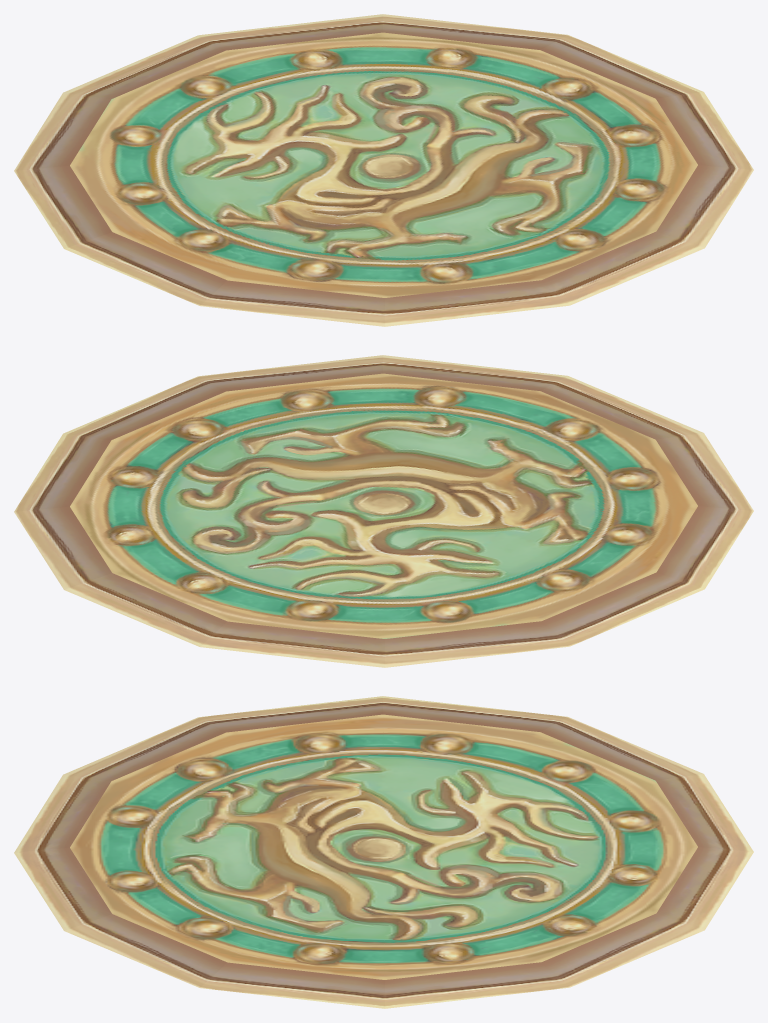
Rendered from W3_HD_GongHuiBoss_dimian_07_02_D.FBX.
3 renders of one model, top to bottom at view 1: azimuth 30°, elevation 25°; view 2: azimuth 150°, elevation 25°; view 3: azimuth 270°, elevation 25°, orthographic.
Parts seen in each view (by area): view 1: W3_HD_GongHuiBoss_dimian_07_02_D; view 2: W3_HD_GongHuiBoss_dimian_07_02_D; view 3: W3_HD_GongHuiBoss_dimian_07_02_D.
Part boxes in pixels (box(x1,y1,x2,y2)): W3_HD_GongHuiBoss_dimian_07_02_D: box(14, 14, 753, 326); W3_HD_GongHuiBoss_dimian_07_02_D: box(14, 355, 753, 667); W3_HD_GongHuiBoss_dimian_07_02_D: box(14, 696, 753, 1008).
Size of the model in its own units: 13.96 by 0.1074 by 13.96.
